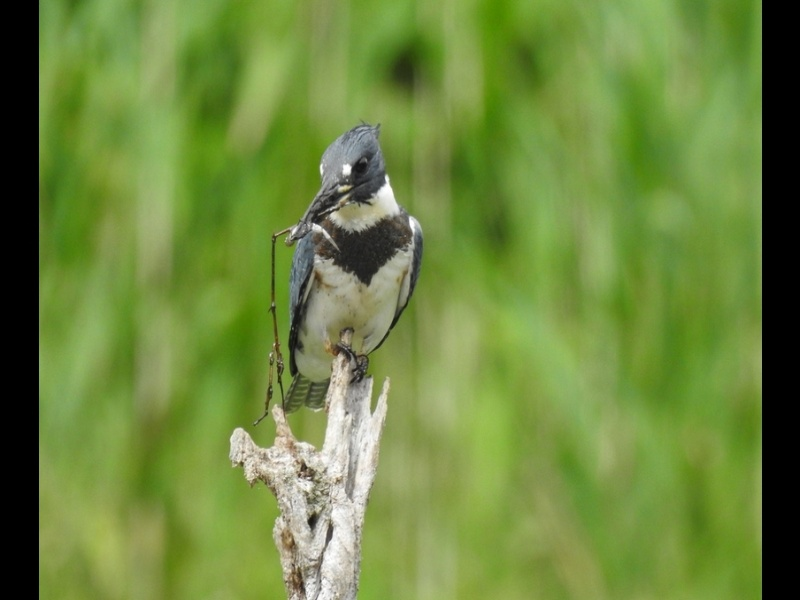kingfisher: (272, 112, 430, 425)
